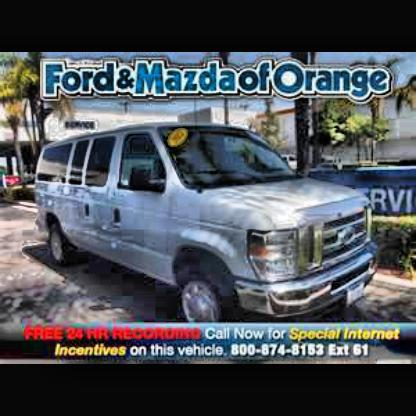Ford E-Series Wagon Van 2012: (33, 127, 376, 328)
